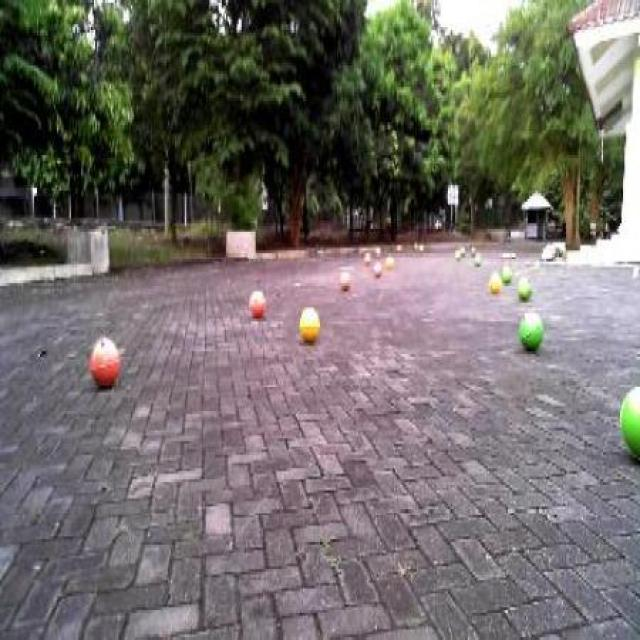buoy: (83, 325, 123, 396), (616, 365, 640, 477), (513, 303, 545, 353), (296, 298, 323, 348), (246, 280, 267, 322)
